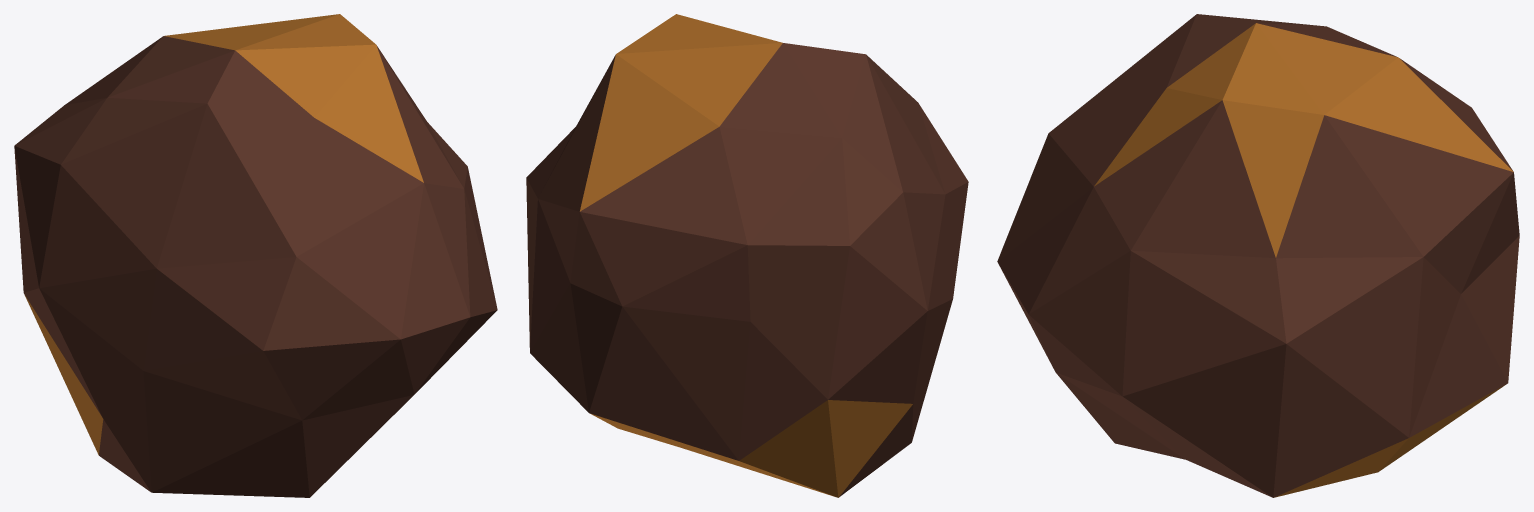
Rendered from boulder.glb.
The picture shows the model from 3 angles, left to right: view 1: azimuth 30°, elevation 25°; view 2: azimuth 150°, elevation 25°; view 3: azimuth 270°, elevation 25°; orthographic projection. The views are drawn at different scales.
Parts seen in each view (by area): view 1: Boulder; view 2: Boulder; view 3: Boulder.
Boxes of the visible parts, box(x1,y1,x2,y2) form: Boulder: box(14, 14, 497, 497); Boulder: box(526, 14, 968, 497); Boulder: box(997, 14, 1519, 497).
Size of the model in its own units: 1 by 0.9623 by 1.04.
